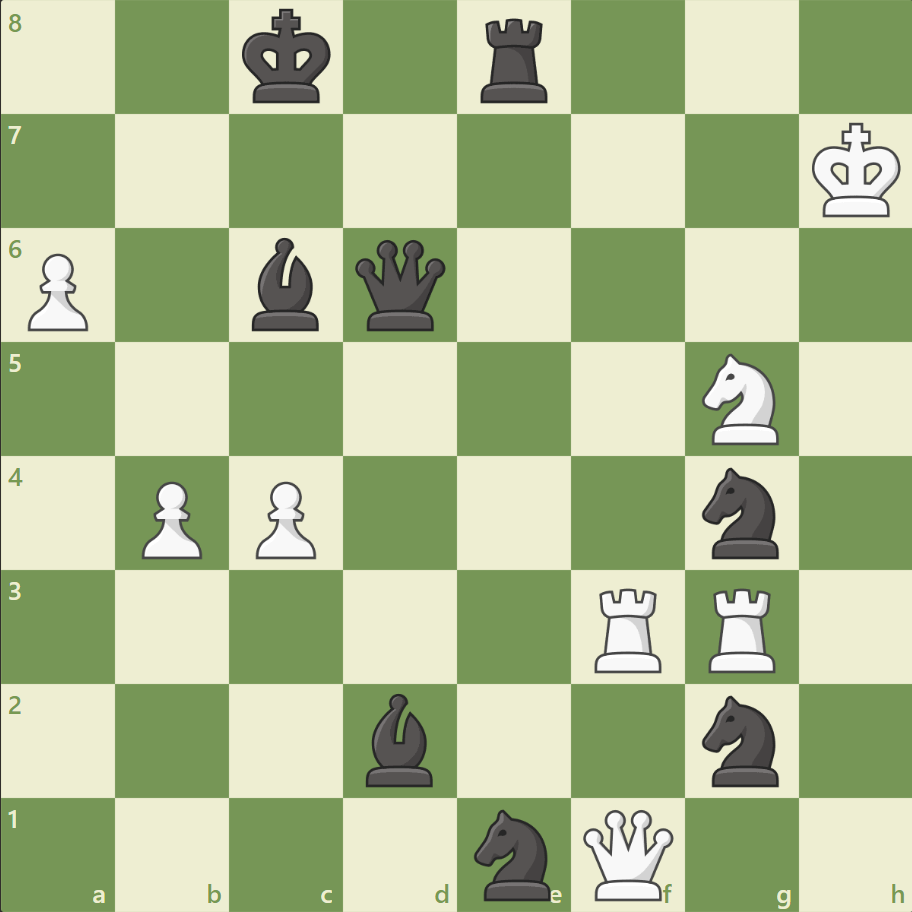K: (806, 117, 906, 225)
N: (692, 348, 789, 450)
P: (20, 246, 95, 337), (133, 473, 208, 564), (247, 473, 322, 564)
Q: (578, 804, 677, 903)
R: (587, 579, 670, 676), (700, 579, 783, 676)
b: (244, 233, 328, 336), (358, 687, 442, 790)
k: (238, 4, 338, 112)
n: (692, 461, 789, 564), (692, 688, 789, 791), (465, 802, 562, 904)
q: (351, 236, 450, 335)
r: (473, 12, 556, 109)
